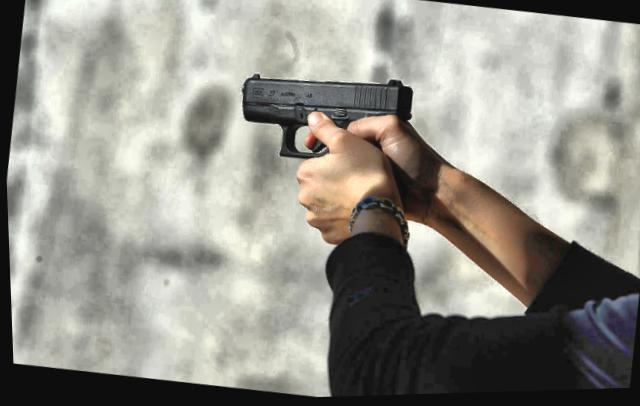pistol: (230, 59, 418, 181)
